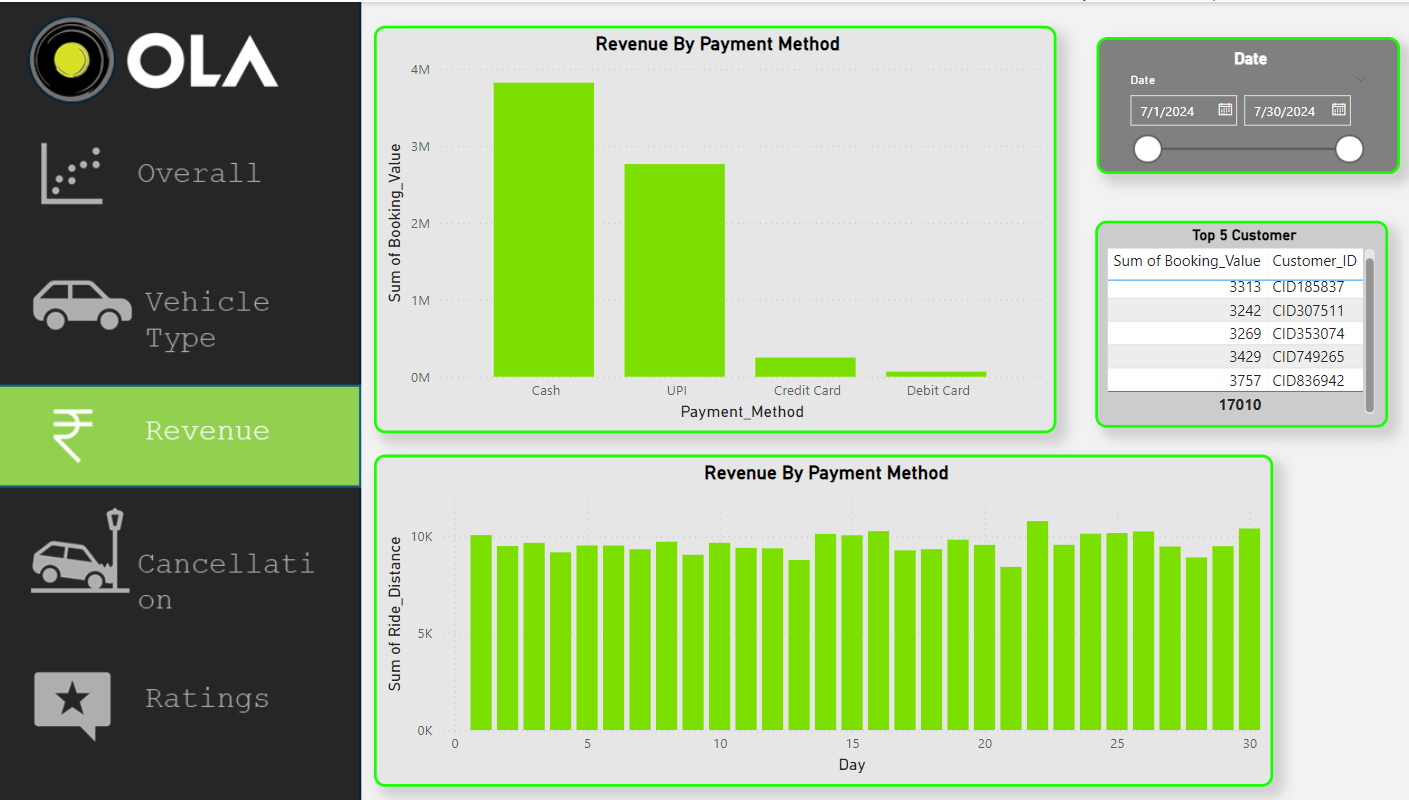

This screenshot's page, from the dashboard's own definition file:
{"tool":"powerbi","page":{"name":"Revenue","canvas":[1280,720],"ordinal":2},"visuals":[{"type":"columnChart","title":"Revenue By Payment  Method","fields":{"Y":["Sum(Bookings_Cleaned.Booking_Value)"],"Category":["Bookings_Cleaned.Payment_Method"]},"box":[334.9,20.9,609.3,364],"z":0},{"type":"columnChart","title":"Revenue By Payment  Method","fields":{"Y":["Sum(Bookings_Cleaned.Ride_Distance)"],"Category":["Bookings_Cleaned.Date.Variation.Date Hierarchy.Day"]},"box":[334.9,404.7,803.5,296.5],"z":1000},{"type":"slicer","title":"Date","fields":{"Values":["Bookings_Cleaned.Date"]},"box":[980.2,31.4,270.9,122.1],"z":2000},{"type":"tableEx","title":"Top 5 Customer","fields":{"Values":["Sum(Bookings_Cleaned.Booking_Value)","Bookings_Cleaned.Customer_ID"]},"box":[979.7,195.2,261.5,184.8],"z":3000}]}

Visuals, with their boxes on the page's 1280x720 design canvas (x1, y1, x2, y2). These are canvas units, not pixel positions in the 1409x800 screenshot, which may show the page scaled, cropped or inside an application window:
"Revenue By Payment  Method" columnChart: BBox(335, 21, 944, 385)
"Revenue By Payment  Method" columnChart: BBox(335, 405, 1138, 701)
"Date" slicer: BBox(980, 31, 1251, 154)
"Top 5 Customer" tableEx: BBox(980, 195, 1241, 380)
